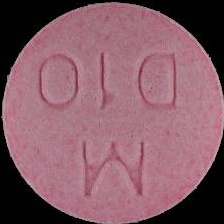55289-022: (0, 0, 224, 224)
